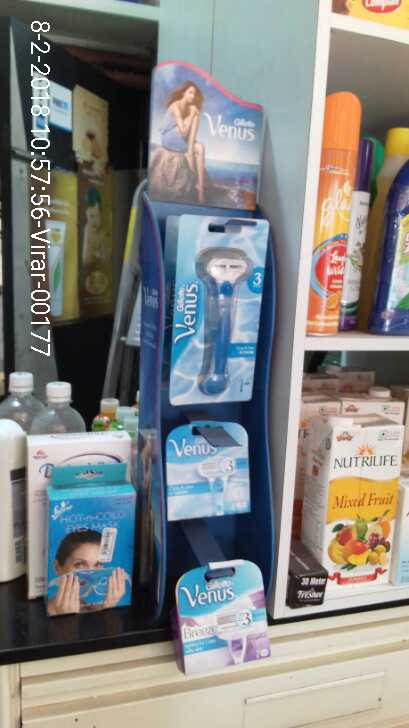venus: (176, 203, 261, 403), (163, 559, 272, 669), (158, 418, 255, 520)
